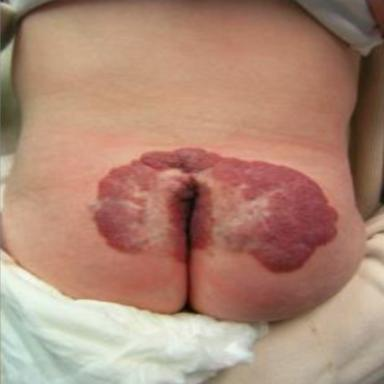Hemangiome: (95, 148, 338, 271)
